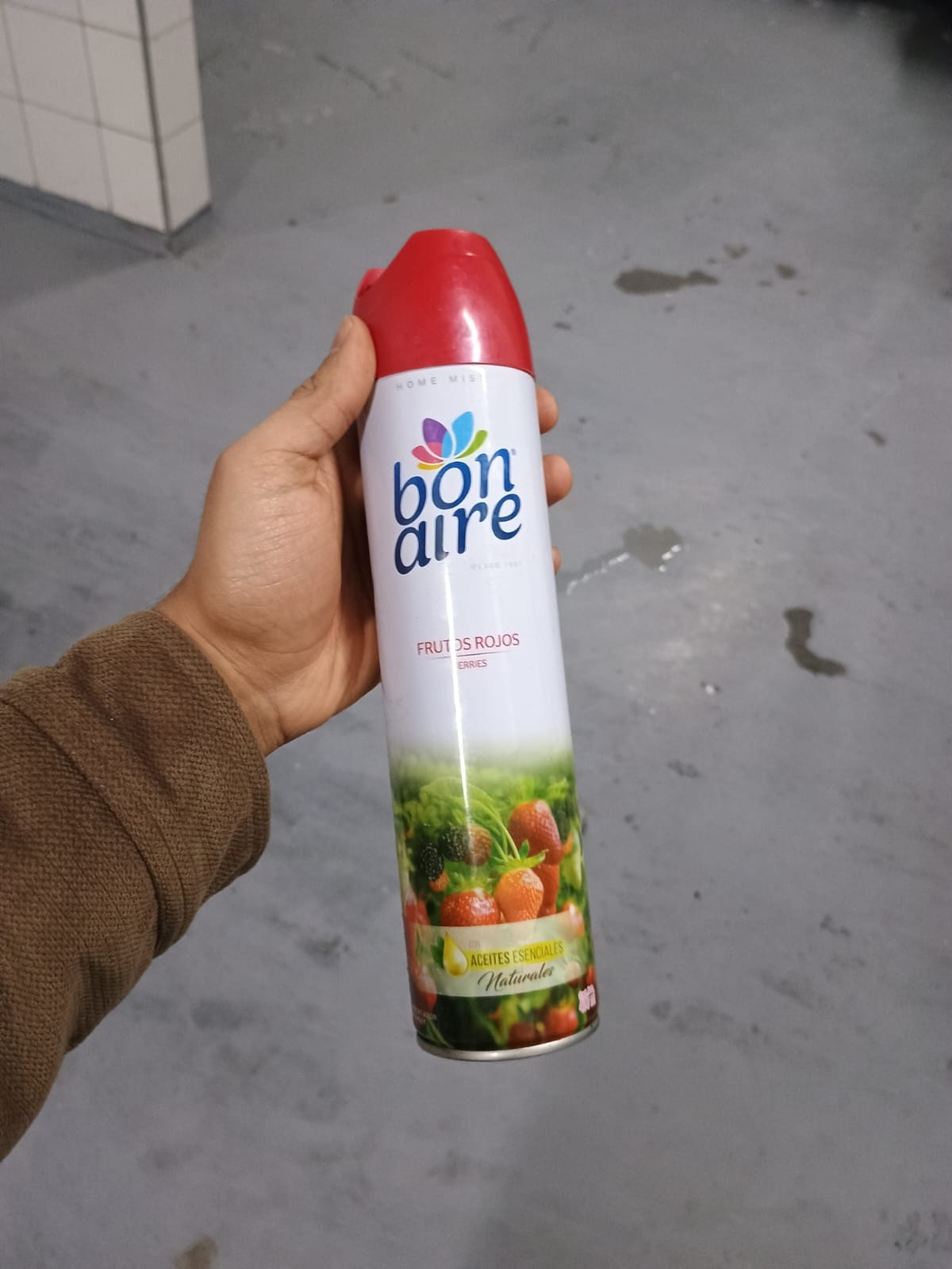Metal: (365, 366, 595, 1064)
Plastico: (354, 227, 533, 366)
